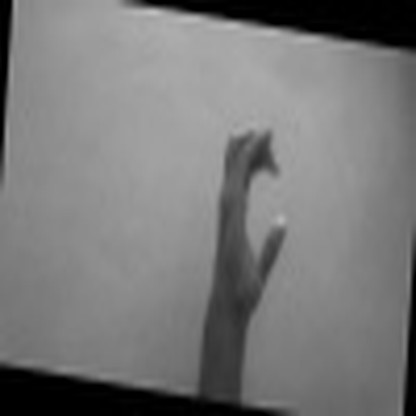c: (199, 118, 298, 334)
